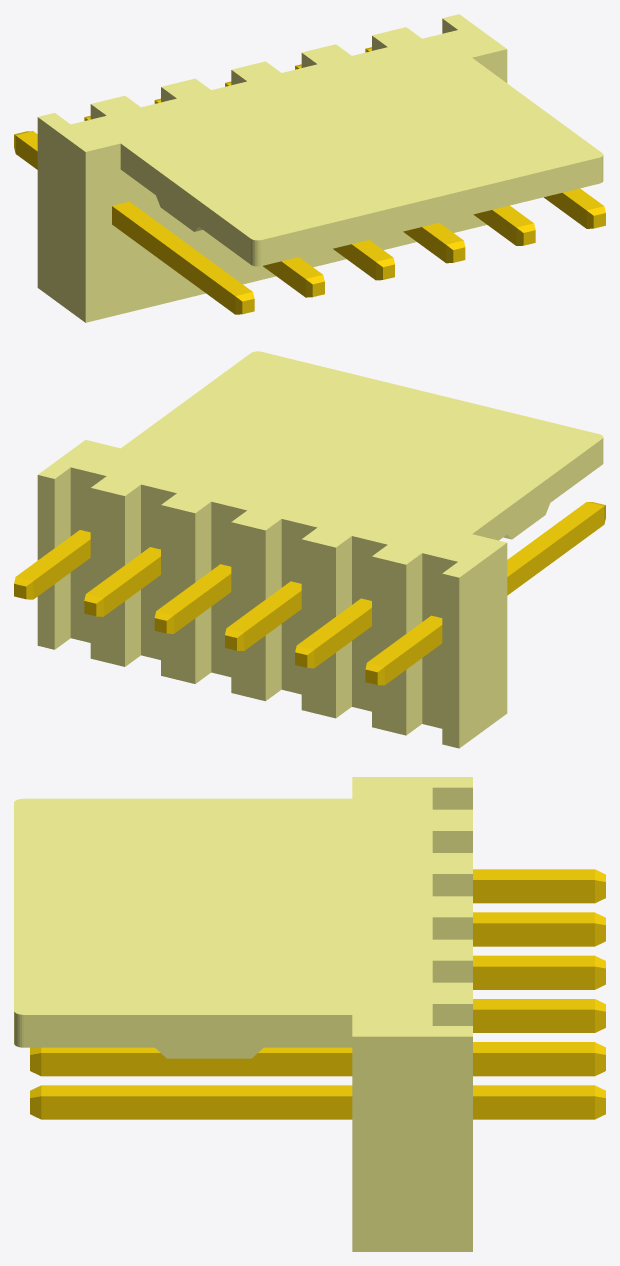
File: DS1070-6 (WF-6 CONNFLY).obj
3 renders of one model, top to bottom at view 1: azimuth 30°, elevation 25°; view 2: azimuth 150°, elevation 25°; view 3: azimuth 270°, elevation 25°, orthographic. The views are drawn at different scales.
Parts seen in each view (by area): view 1: DS1070-6_(WF-6_CONNFLY); view 2: DS1070-6_(WF-6_CONNFLY); view 3: DS1070-6_(WF-6_CONNFLY).
Part boxes in pixels (x1,y1,x2,y2): DS1070-6_(WF-6_CONNFLY): [14, 14, 605, 322]; DS1070-6_(WF-6_CONNFLY): [14, 351, 605, 748]; DS1070-6_(WF-6_CONNFLY): [14, 777, 605, 1251].
Bounding box in the file's own units: 0.0298 × 0.0115 × 0.0288.
